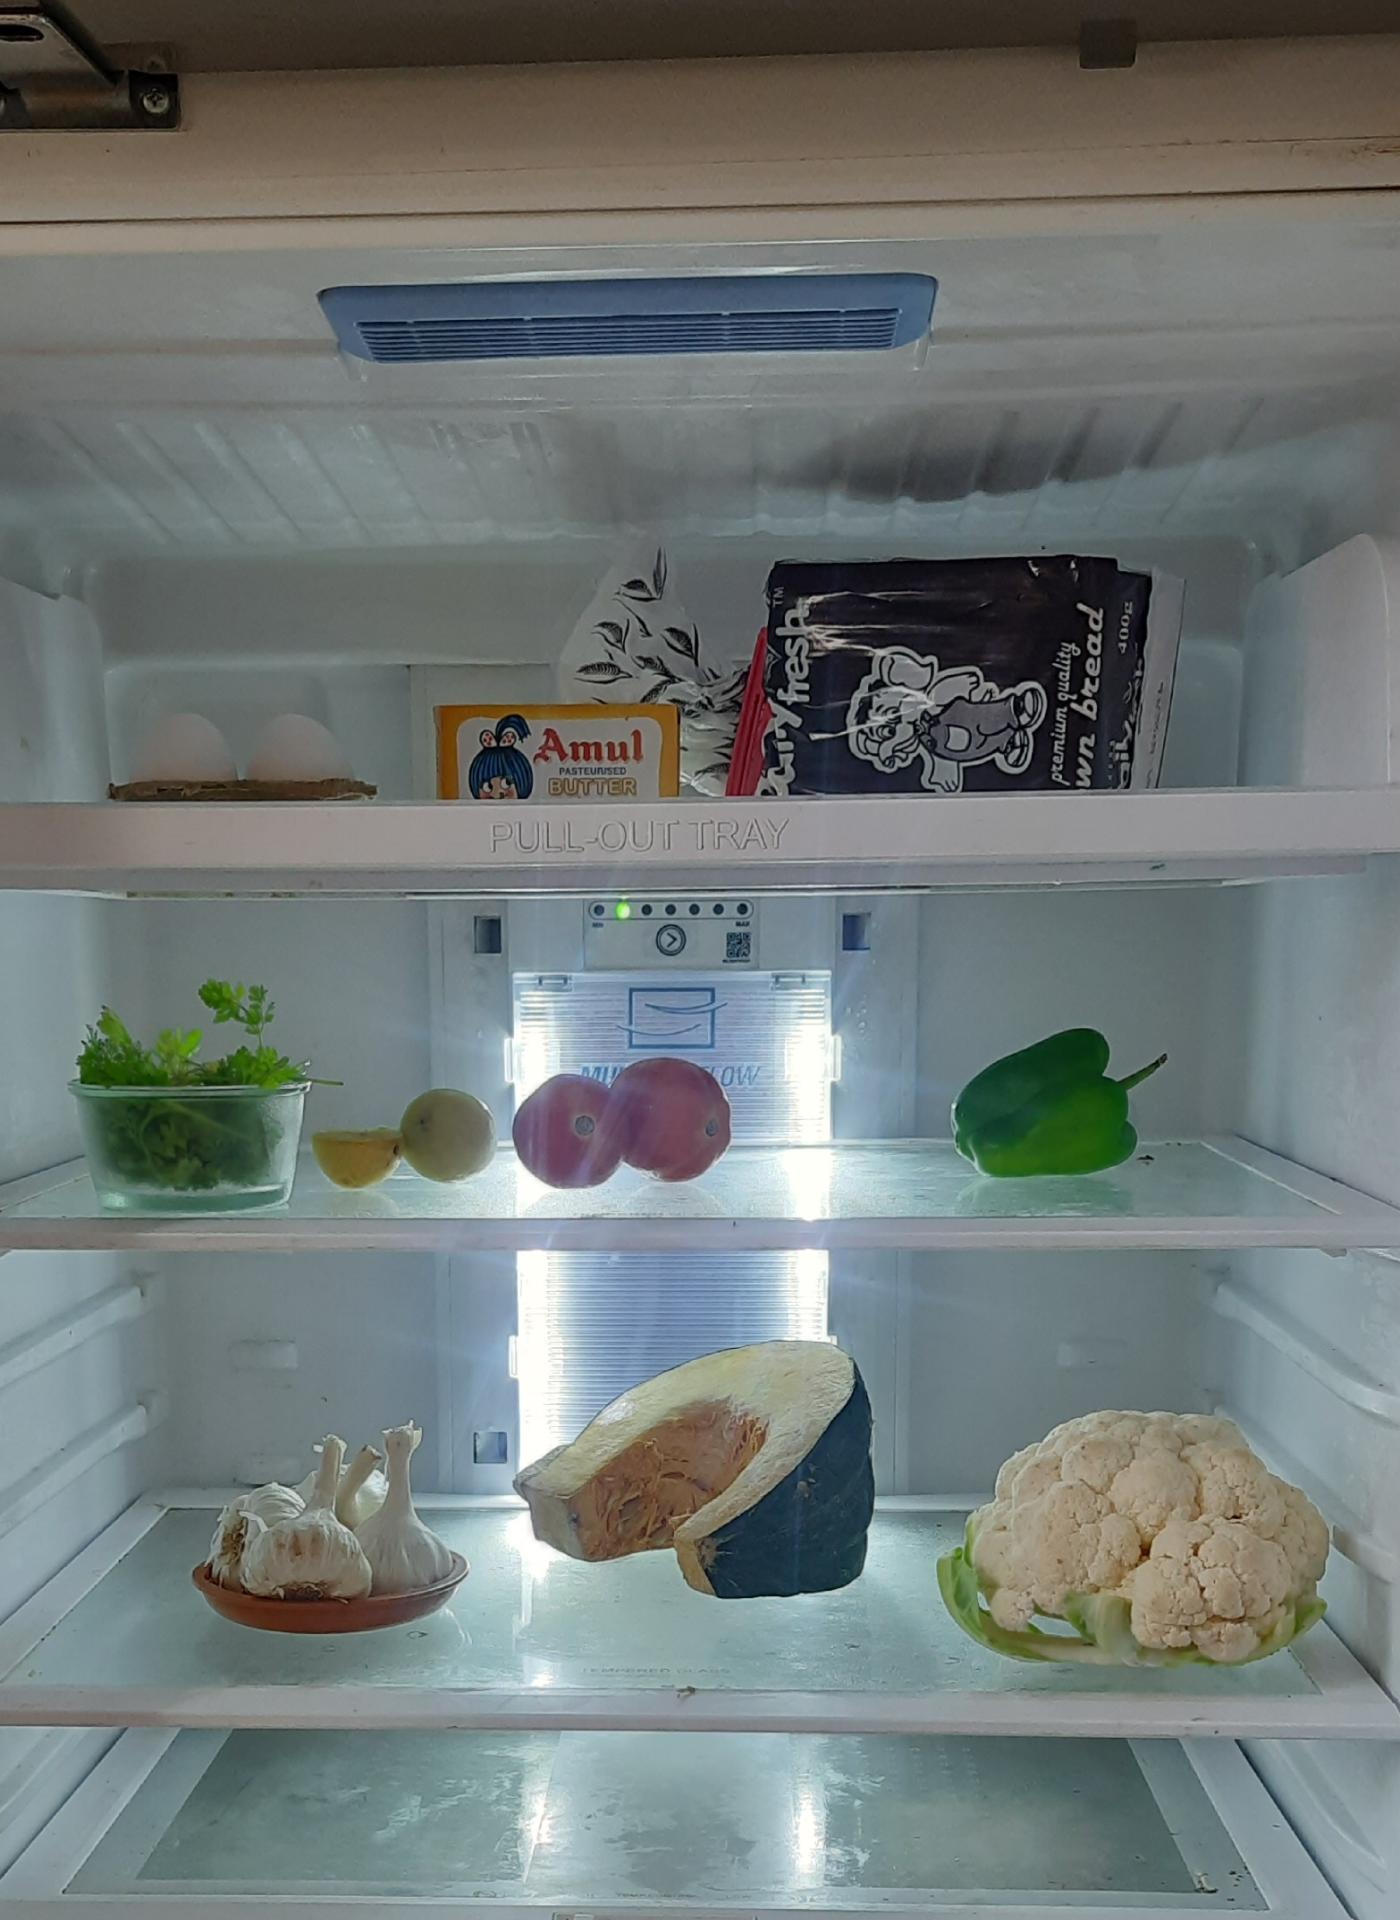bread: (593, 540, 1164, 792)
butter: (438, 699, 687, 800)
capsicum: (942, 1040, 1144, 1193)
cauliflower: (963, 1398, 1339, 1655)
coriander: (78, 979, 297, 1199)
egg: (119, 707, 368, 796)
garlic: (212, 1413, 452, 1614)
lemon: (315, 1084, 496, 1185)
pumpkin: (525, 1333, 884, 1601)
tomato: (517, 1049, 734, 1185)
